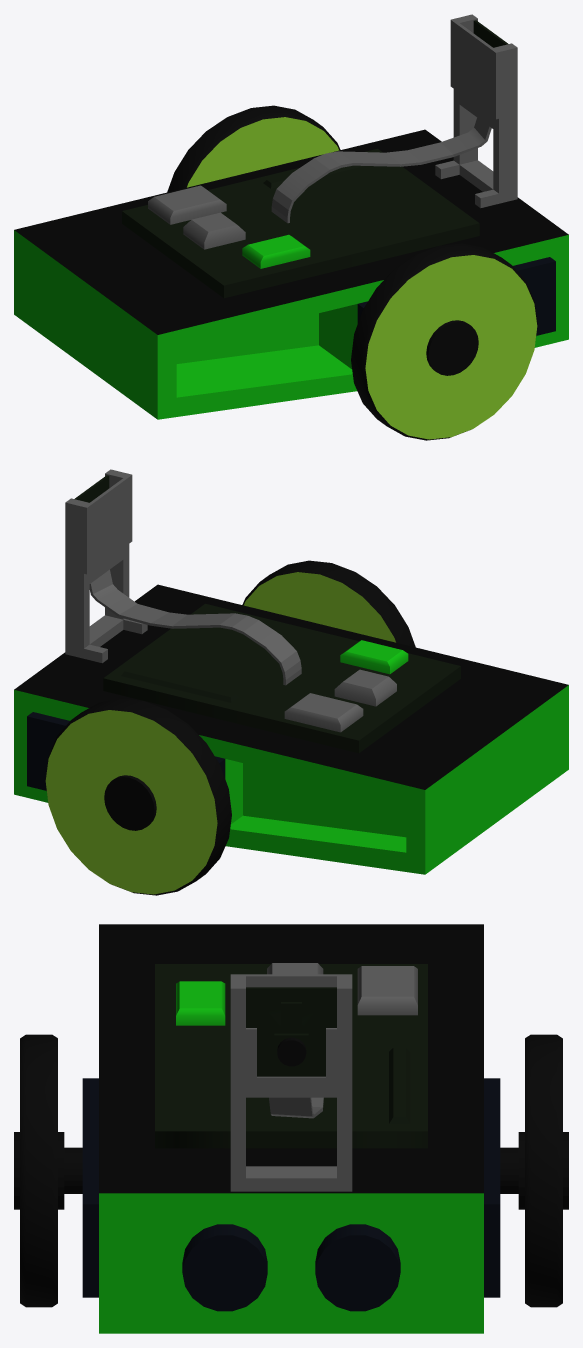
File: jrobotF.dae
3 renders of one model, top to bottom at view 1: azimuth 30°, elevation 25°; view 2: azimuth 150°, elevation 25°; view 3: azimuth 270°, elevation 25°, orthographic. The views are drawn at different scales.
Parts seen in each view (by area): view 1: polySurface12; view 2: polySurface12; view 3: polySurface12.
Boxes of the visible parts, box(x1,y1,x2,y2) form: polySurface12: box(14, 14, 568, 440); polySurface12: box(14, 469, 568, 895); polySurface12: box(14, 924, 568, 1333).
Size of the model in its own units: 4.26 by 2.85 by 3.57.
